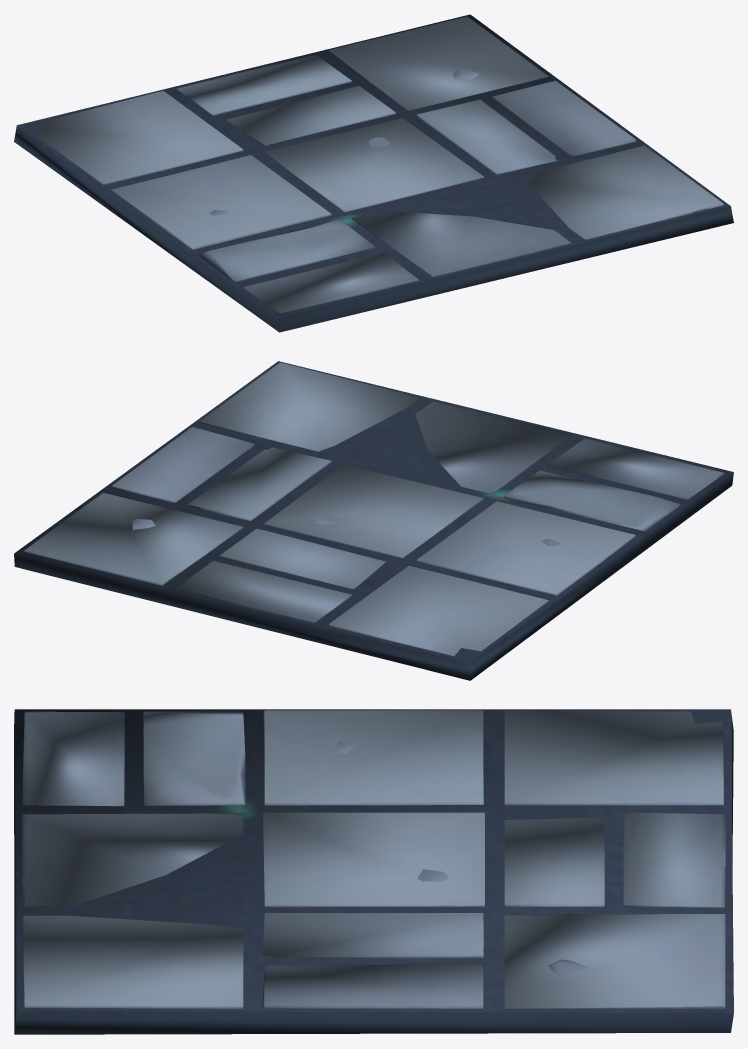
The model's file is floor.glb.
The picture shows the model from 3 angles, top to bottom: view 1: azimuth 30°, elevation 25°; view 2: azimuth 150°, elevation 25°; view 3: azimuth 270°, elevation 25°; orthographic projection. The views are drawn at different scales.
Visible parts, largest first — view 1: grout; view 2: grout; view 3: grout.
Boxes of the visible parts, x1,y1,x2,y2 form: grout: (14,14,733,332); grout: (14,361,733,680); grout: (14,709,733,1034).
Bounding box in the file's own units: 2 × 0.0837 × 2.
1 material, 1 textured.
